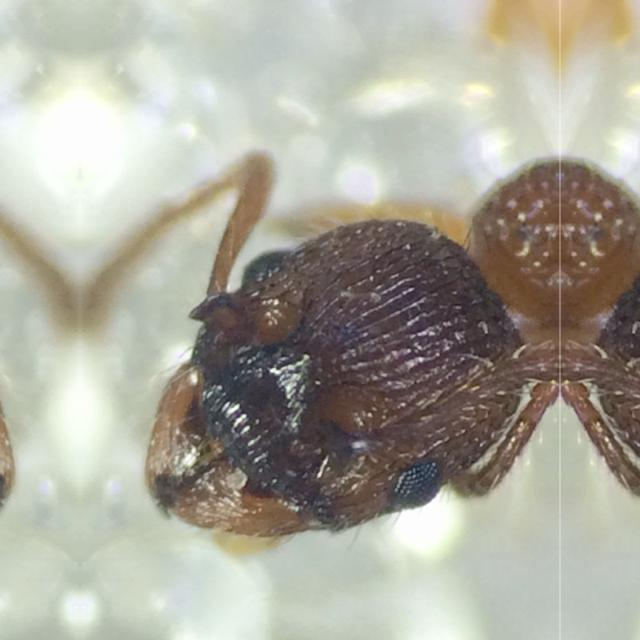Myrmica: (80, 132, 560, 590)
